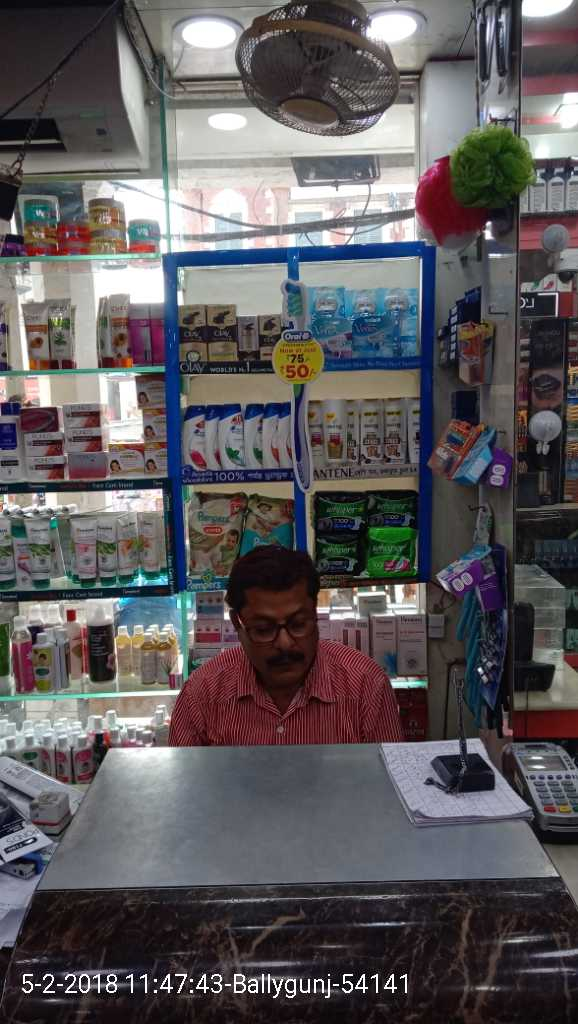gillete: (478, 616, 505, 697), (432, 423, 468, 476), (457, 325, 484, 374)
venus: (454, 596, 478, 727), (438, 543, 489, 592), (351, 317, 397, 351), (315, 313, 351, 351), (380, 289, 423, 311), (312, 285, 346, 309), (346, 289, 380, 309)
